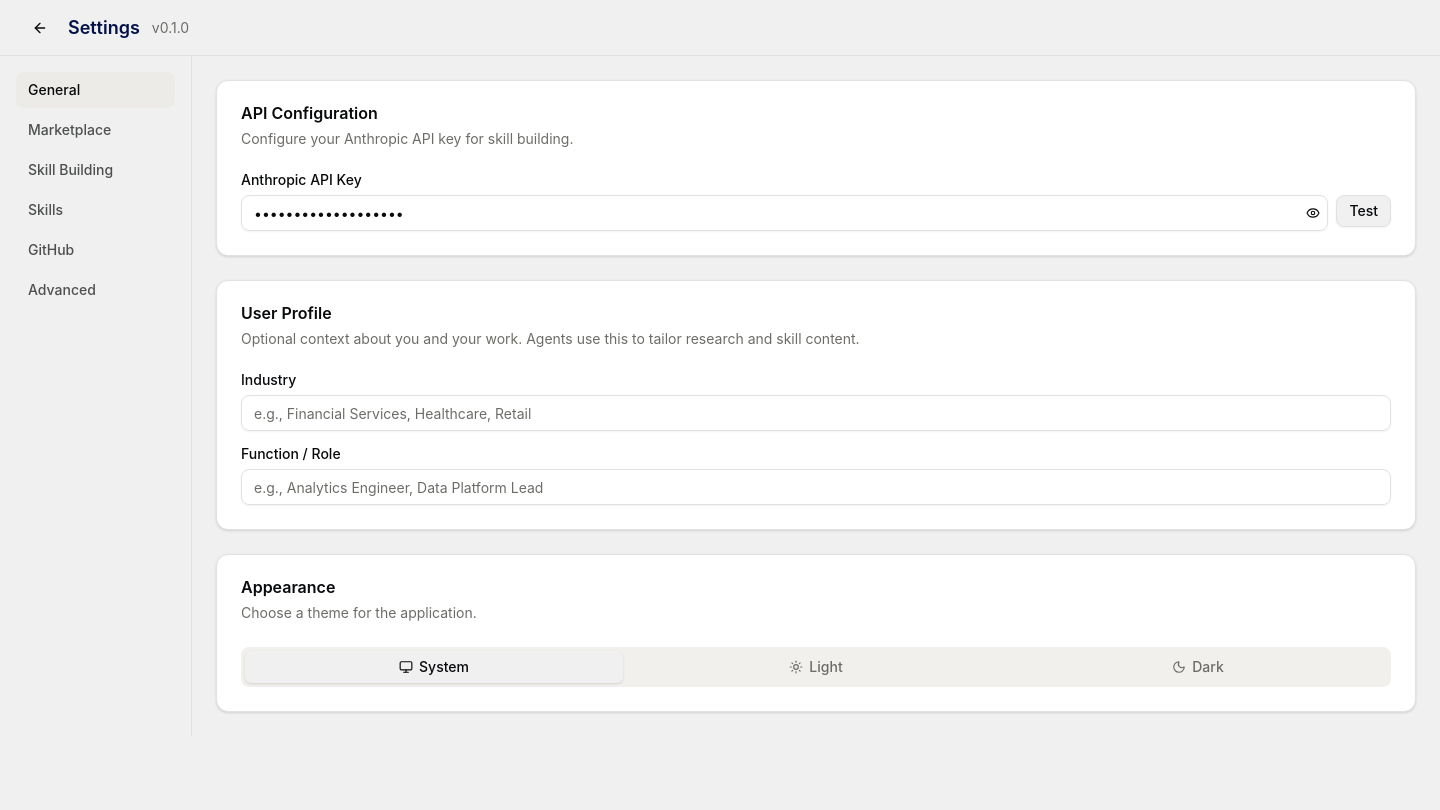
SettingsPage › does not render workspace folder controls in Storage card
Expected: the heading "Settings" is shown, [68,14,140,42]
Click the button "Advanced" at coordinates (96, 290), box [16,272,175,308]
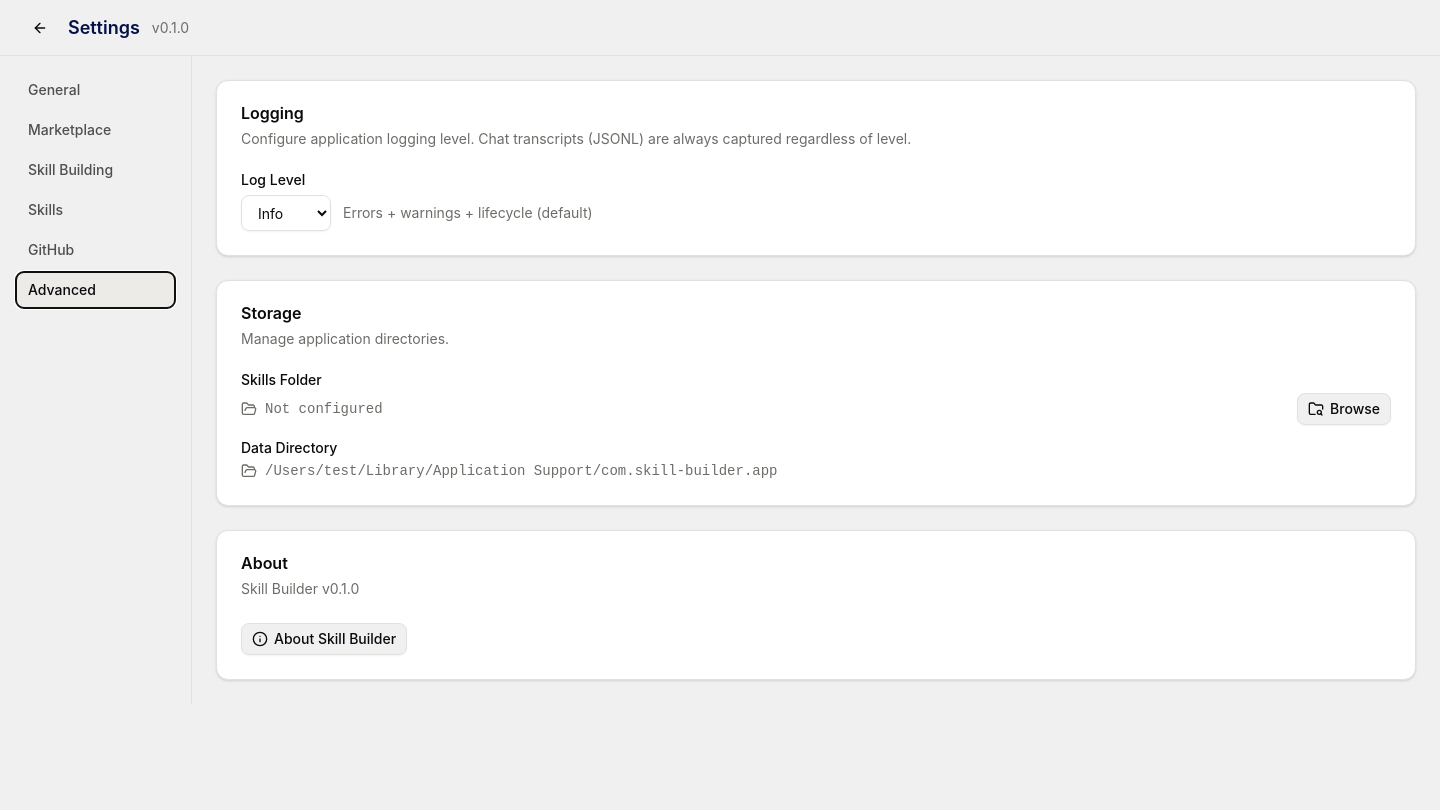
Now the text "Storage" is shown, box [241,303,302,323]
